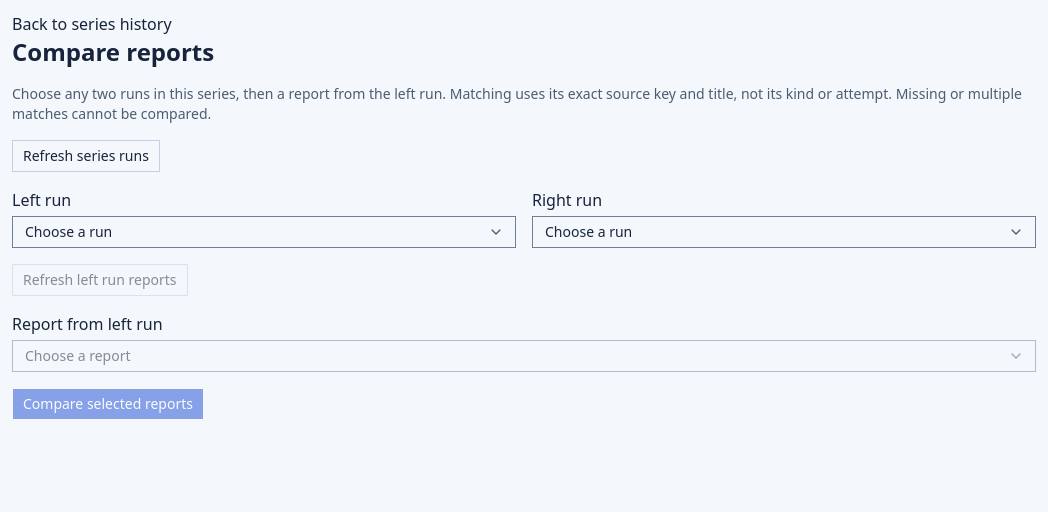
Test case: series report comparison › surfaces index failure instead of presenting a fabricated empty match
This screenshot has width=1048, height=512.
Select "019ed132-2f44-7000-8000-000000000010 | 16 Oct 2026, 07:00:00.000 UTC | Succeeded" in the dropdown labelled "Left run" at (264, 232), box x1=12 y1=216 x2=516 y2=248
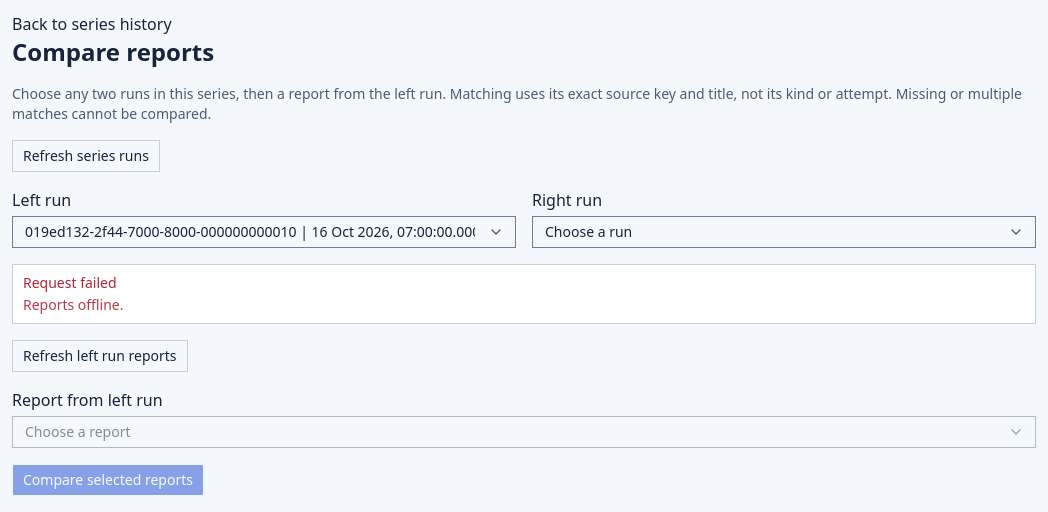
Expected: the message shows "Reports offline.", x1=23 y1=295 x2=124 y2=314
Click the button "Refresh left run reports" at (100, 356), box x1=12 y1=340 x2=188 y2=372
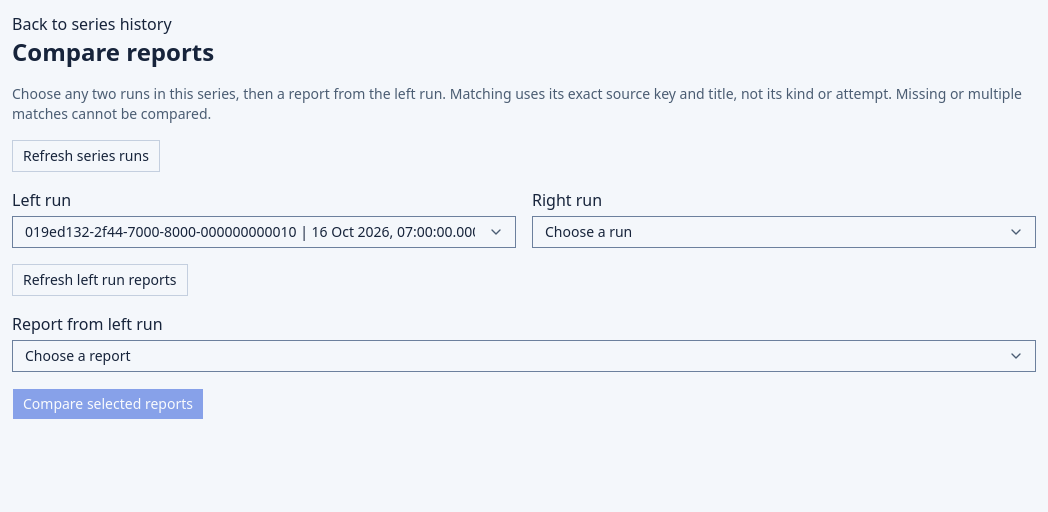
Expected: the dropdown labelled "Report from left run" shows "Choose a report", x1=12 y1=340 x2=1036 y2=372
Expected: the message "Request failed Reports offline." is gone
